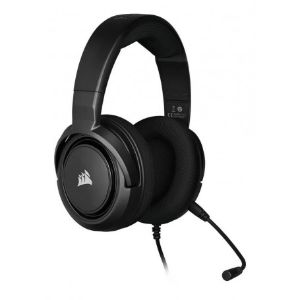headset: (51, 11, 259, 281)
